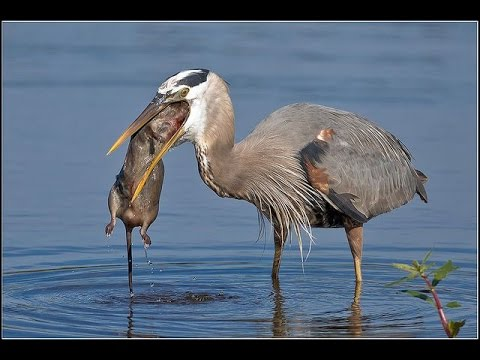heron: (101, 57, 433, 306)
